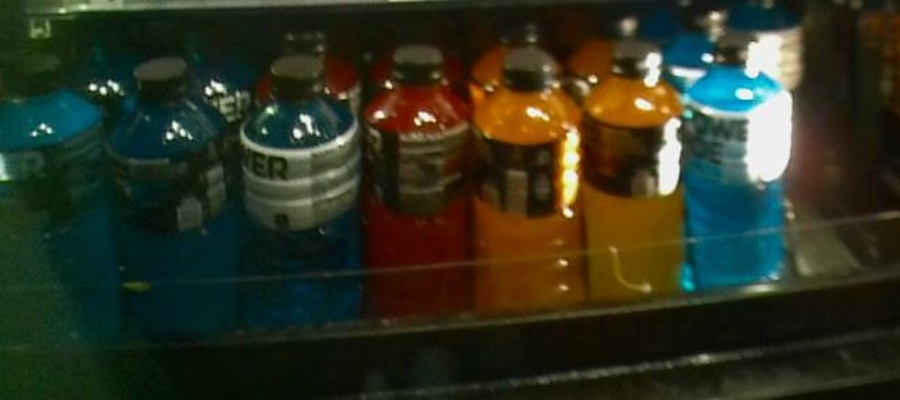bottle: (106, 59, 229, 357), (239, 55, 361, 352), (365, 46, 474, 357), (478, 40, 581, 360), (690, 34, 794, 323), (589, 42, 683, 341)
